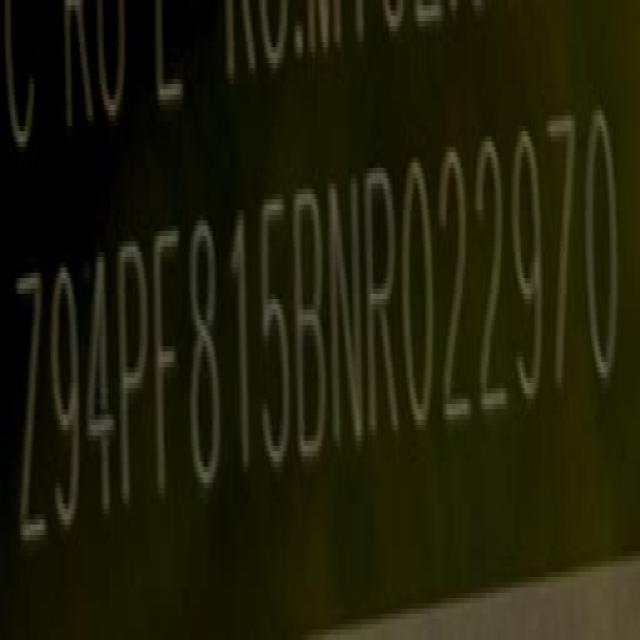0: (586, 101, 622, 393), (402, 152, 438, 437)
1: (232, 207, 254, 491)
2: (473, 132, 507, 424), (438, 141, 471, 434)
4: (86, 247, 118, 531)
5: (262, 188, 290, 476)
7: (546, 108, 580, 408)
8: (189, 216, 223, 500)
9: (512, 123, 545, 414), (52, 267, 84, 551)
B: (296, 179, 330, 466)
F: (153, 226, 185, 511)
N: (328, 169, 367, 453)
P: (118, 239, 152, 521)
R: (367, 161, 405, 444)
Z: (15, 264, 47, 562)
